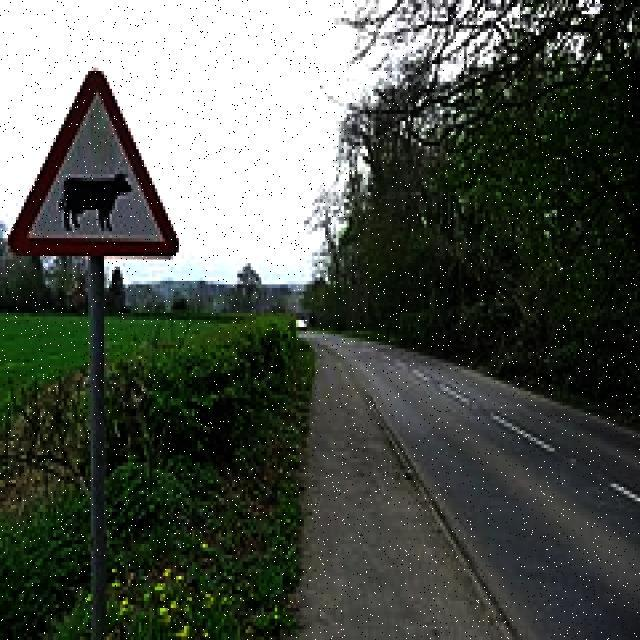Traffic sign: (6, 66, 184, 261)
